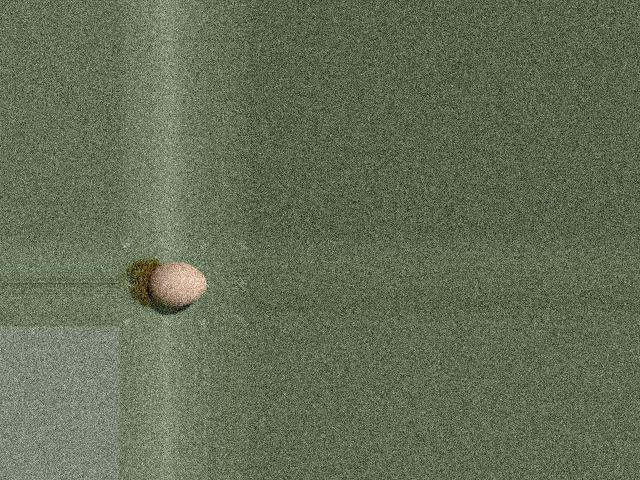egg: (149, 262, 207, 306)
